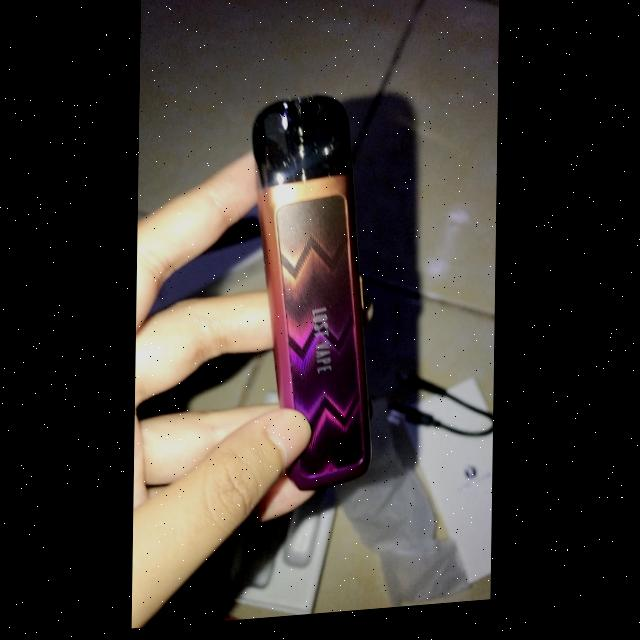vape: (248, 96, 380, 501)
